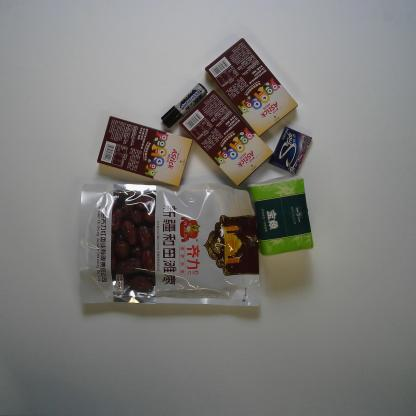Dessert: (204, 36, 300, 138), (179, 88, 276, 188), (96, 114, 194, 188)
Dried Food: (76, 180, 262, 312)
Gum: (268, 124, 313, 177)
Stationery: (160, 82, 208, 130)
Tissue: (244, 175, 314, 257)
